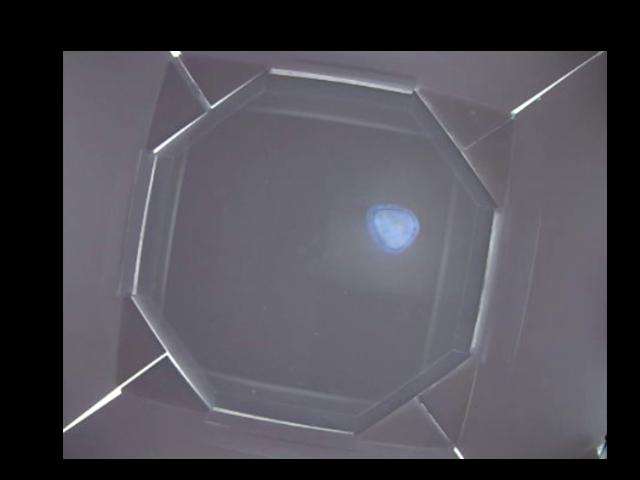Pebble: (365, 204, 420, 254)
